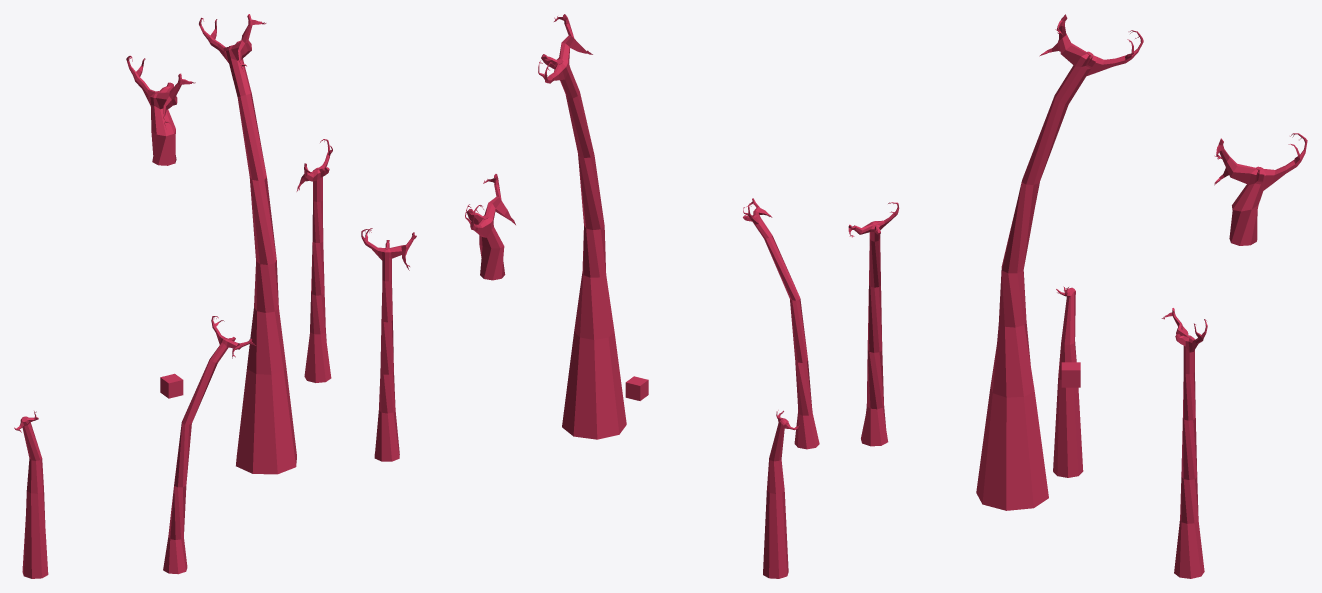
File: roots.fbx
3 views of the same model, side by side, from view 1: azimuth 30°, elevation 25°; view 2: azimuth 150°, elevation 25°; view 3: azimuth 270°, elevation 25° (orthographic). The views are drawn at different scales.
Visible parts, largest first — view 1: tree roots 4, tree roots 2, tree roots 3, tree roots 1, tree roots 4.001, Cube; view 2: tree roots 4, tree roots 3, tree roots 2, tree roots 1, tree roots 4.001; view 3: tree roots 4, tree roots 3, tree roots 2, tree roots 1, tree roots 4.001.
Boxes of the visible parts, <box> form: tree roots 4: <box>199,14,296,474</box>; tree roots 2: <box>163,316,255,574</box>; tree roots 3: <box>296,139,332,382</box>; tree roots 1: <box>14,411,48,578</box>; tree roots 4.001: <box>126,55,195,165</box>; Cube: <box>160,373,183,398</box>; tree roots 4: <box>538,14,626,439</box>; tree roots 3: <box>361,228,416,461</box>; tree roots 2: <box>743,198,819,449</box>; tree roots 1: <box>763,410,799,578</box>; tree roots 4.001: <box>465,174,515,280</box>; tree roots 4: <box>976,14,1143,510</box>; tree roots 3: <box>1161,308,1207,578</box>; tree roots 2: <box>848,202,899,446</box>; tree roots 1: <box>1053,286,1083,477</box>; tree roots 4.001: <box>1214,133,1307,245</box>.
Size of the model in its own units: 1704 by 2192 by 1587.
